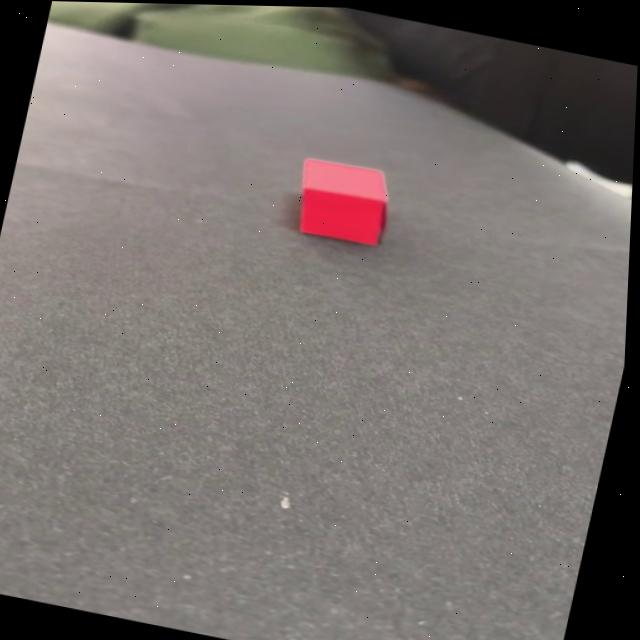red block: (288, 153, 400, 249)
